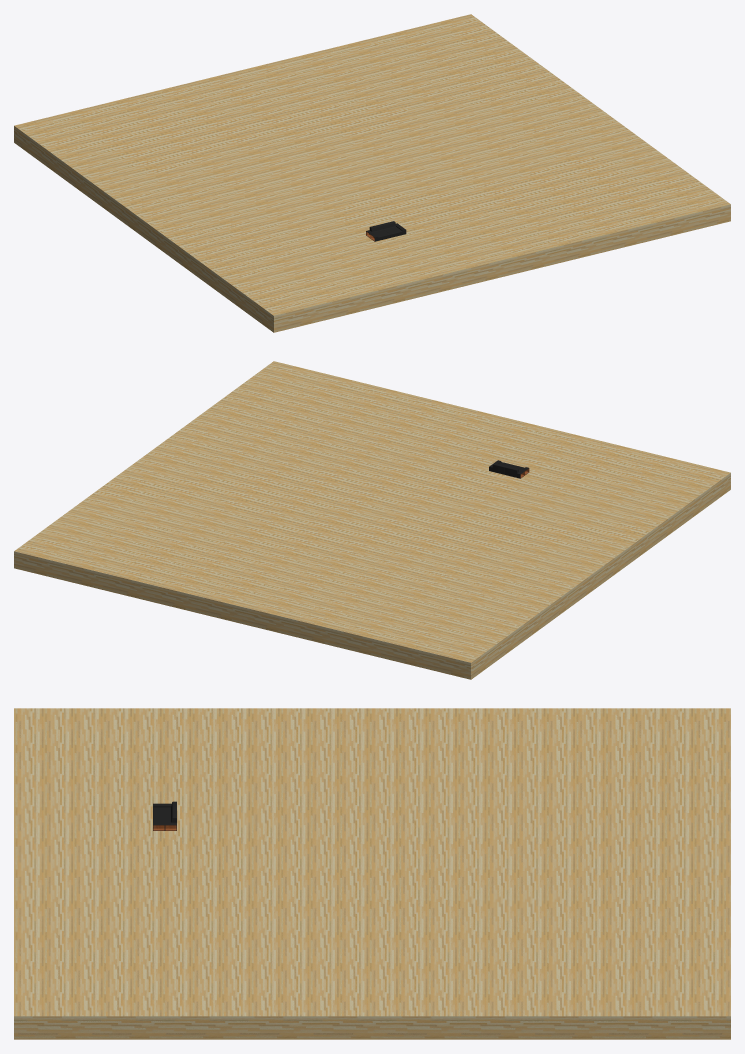
3 renders of one model, top to bottom at view 1: azimuth 30°, elevation 25°; view 2: azimuth 150°, elevation 25°; view 3: azimuth 270°, elevation 25°, orthographic. The views are drawn at different scales.
Visible parts, largest first — view 1: Component_5, SketchUp; view 2: Component_5; view 3: Component_5, SketchUp.
Boxes of the visible parts, x1,y1,x2,y2 form: Component_5: [14, 14, 730, 332]; SketchUp: [366, 221, 406, 241]; Component_5: [14, 361, 730, 679]; Component_5: [14, 708, 730, 1039]; SketchUp: [153, 801, 176, 830].
Bounding box in the file's own units: 1184 × 1166 × 61.69.
Materials: 3 (2 with a texture image).
